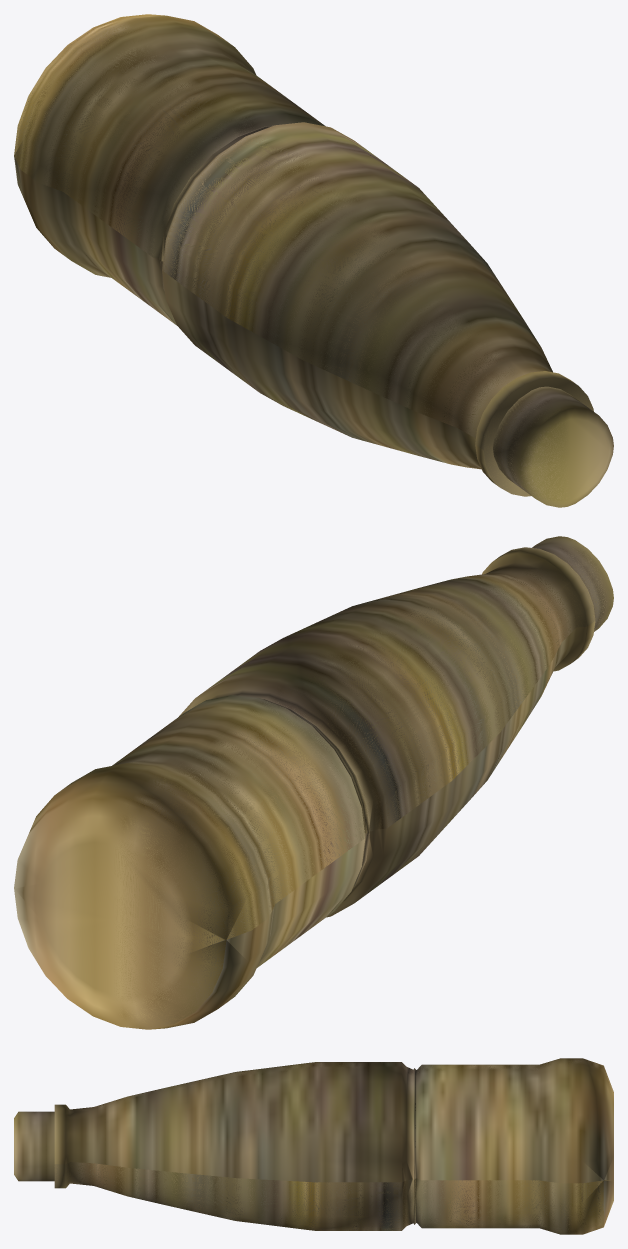
The model's file is model_align.obj.
The picture shows the model from 3 angles, top to bottom: view 1: azimuth 30°, elevation 25°; view 2: azimuth 150°, elevation 25°; view 3: azimuth 270°, elevation 25°; orthographic projection. The views are drawn at different scales.
Visible parts, largest first — view 1: mesh1_mesh1-geometry, mesh2_mesh2-geometry; view 2: mesh1_mesh1-geometry, mesh2_mesh2-geometry; view 3: mesh1_mesh1-geometry, mesh2_mesh2-geometry.
Boxes of the visible parts, bbox=[...] form: mesh1_mesh1-geometry: bbox=[14, 14, 593, 496]; mesh2_mesh2-geometry: bbox=[493, 386, 613, 507]; mesh1_mesh1-geometry: bbox=[14, 547, 595, 1029]; mesh2_mesh2-geometry: bbox=[532, 536, 613, 631]; mesh1_mesh1-geometry: bbox=[54, 1058, 613, 1234]; mesh2_mesh2-geometry: bbox=[14, 1111, 54, 1181].
Bounding box in the file's own units: 0.0414 × 0.0421 × 0.1422.
